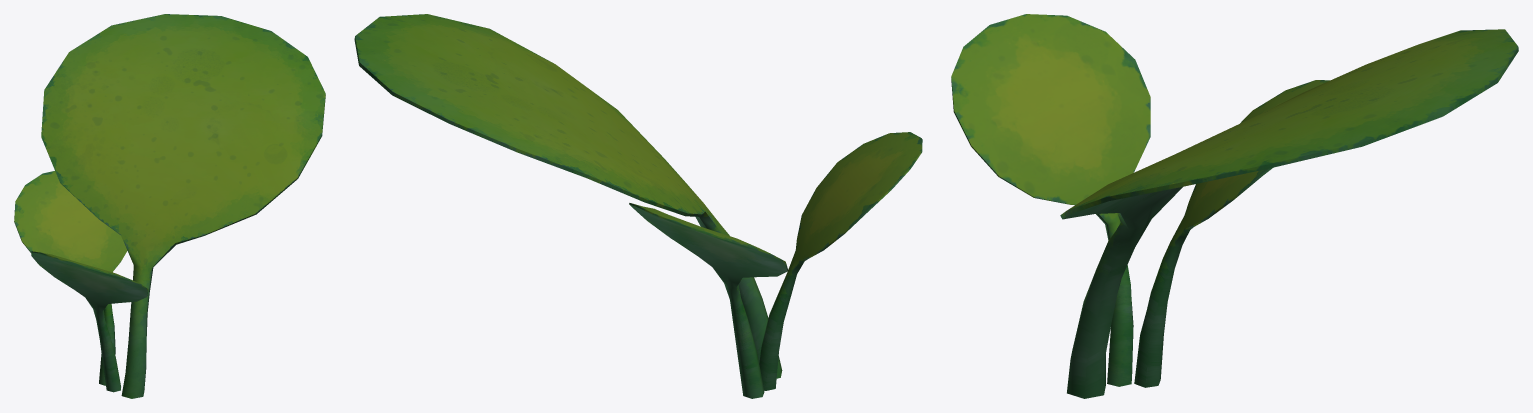
The model's file is plants2.fbx.
3 views of the same model, side by side, from view 1: azimuth 30°, elevation 25°; view 2: azimuth 150°, elevation 25°; view 3: azimuth 270°, elevation 25° (orthographic). The views are drawn at different scales.
Parts seen in each view (by area): view 1: Cube.002; view 2: Cube.002; view 3: Cube.002.
Part boxes in pixels (x1,y1,x2,y2): Cube.002: [14, 14, 325, 398]; Cube.002: [354, 14, 922, 398]; Cube.002: [951, 14, 1518, 398].
Bounding box in the file's own units: 371 × 277 × 325.
1 material, 1 textured.
